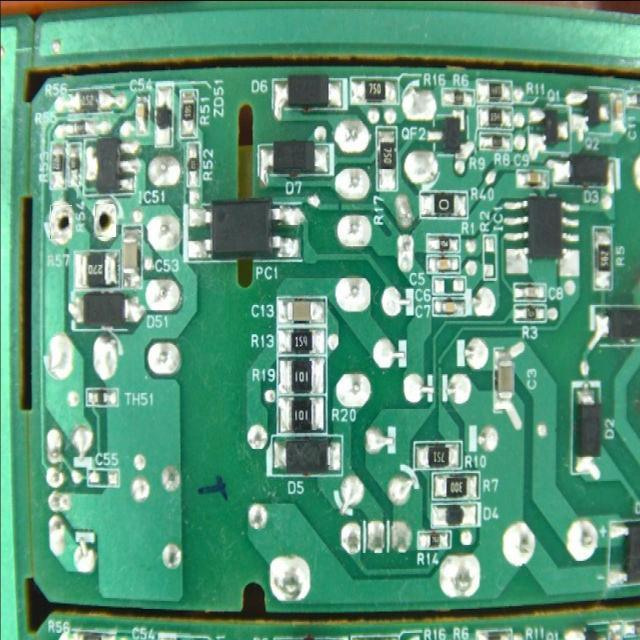damged: (94, 203, 116, 237), (50, 205, 72, 239)
